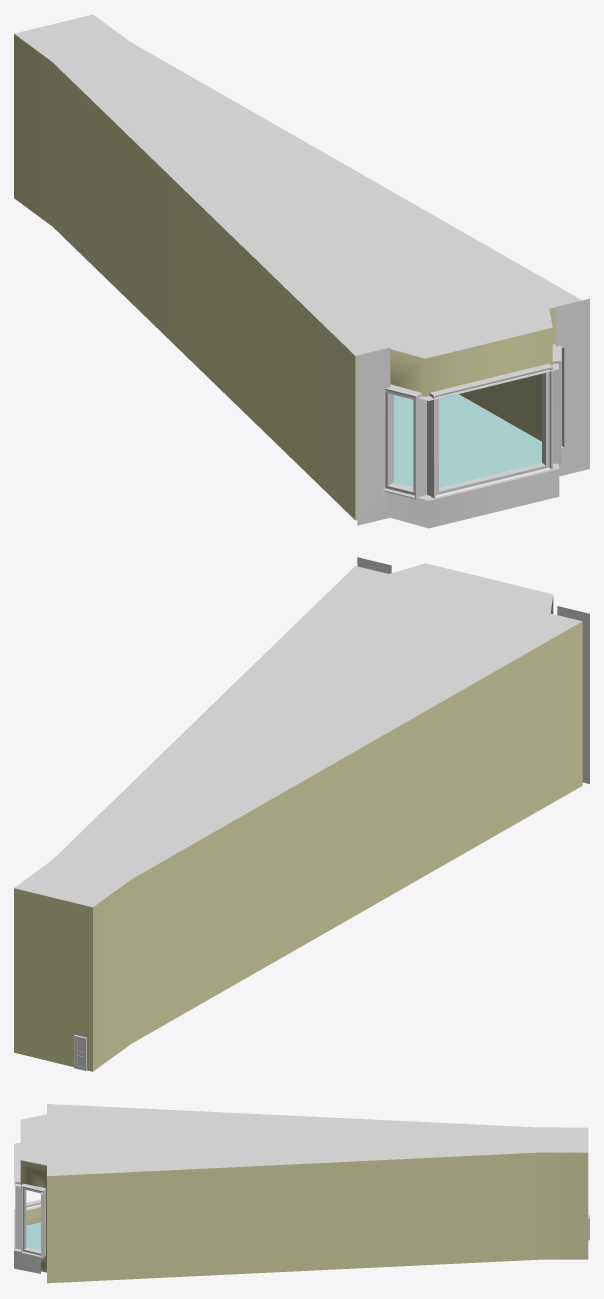
Rendered from KitchenRoom_mar9.fbx.
3 views of the same model, one above another, from view 1: azimuth 30°, elevation 25°; view 2: azimuth 150°, elevation 25°; view 3: azimuth 270°, elevation 25° (orthographic). The views are drawn at different scales.
Visible parts, largest first — view 1: pCube107, polySurface454; view 2: pCube107; view 3: pCube107, polySurface454.
Boxes of the visible parts, left/top/right/bottom form: pCube107: left=14, top=14, right=589, bottom=528; polySurface454: left=383, top=344, right=561, bottom=499; pCube107: left=14, top=557, right=589, bottom=1071; pCube107: left=14, top=1104, right=589, bottom=1283; polySurface454: left=15, top=1144, right=45, bottom=1257.
Size of the model in its own units: 14.74 by 10.32 by 48.54.
